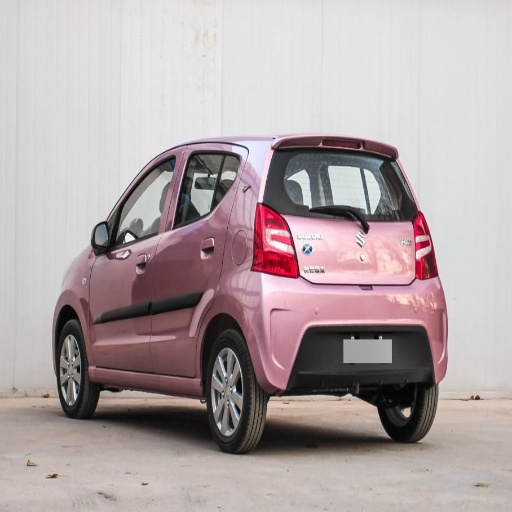back_bumper: (242, 273, 446, 393)
back_glass: (269, 149, 402, 217)
back_left_door: (151, 145, 236, 377)
back_right_light: (414, 212, 437, 277)
trunk: (290, 205, 414, 287)
